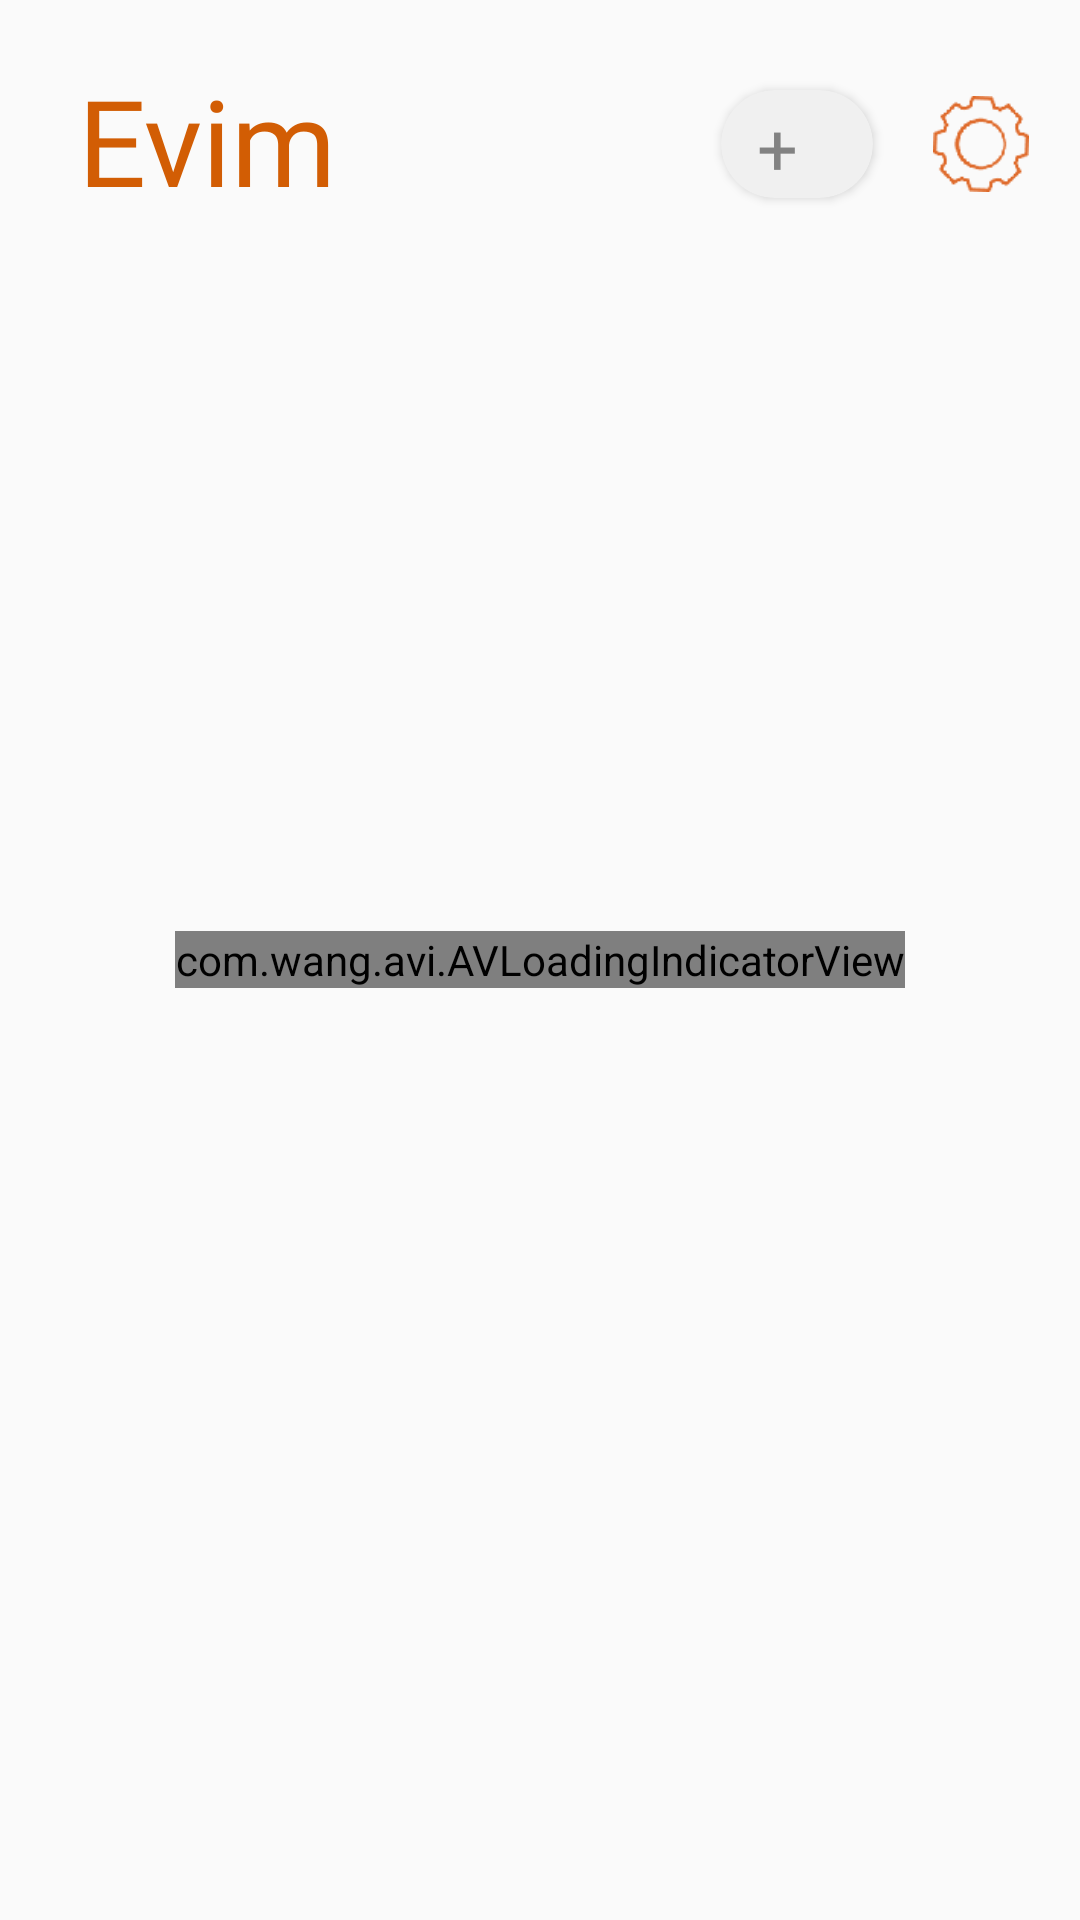

Icon click points for this 1080 x 1920 phone screenshot, format (x=x, y=y):
gear: (x=981, y=144)
